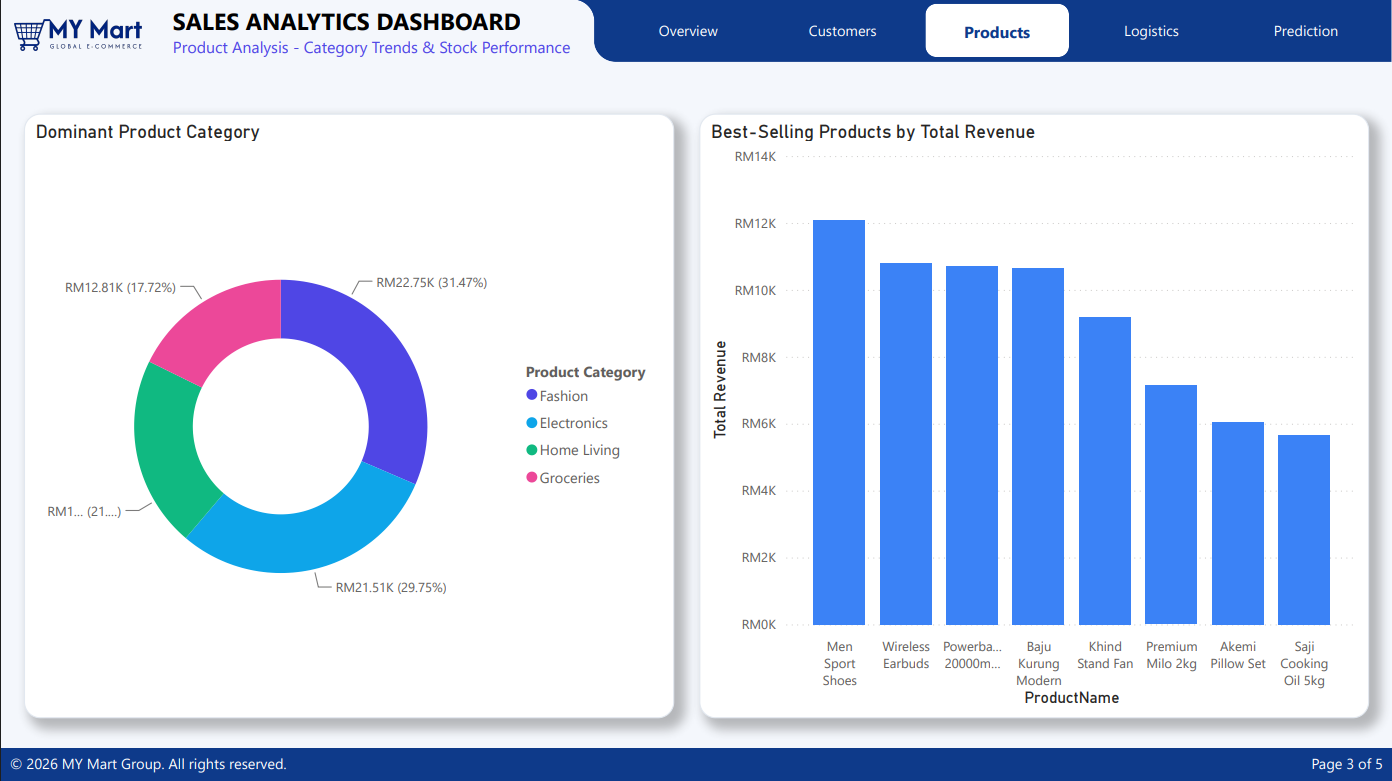

What the dashboard file says about the page in this screenshot:
{"tool":"powerbi","page":{"name":"Products","canvas":[1280,720],"ordinal":2},"visuals":[{"type":"donutChart","title":"Dominant Product Category","fields":{"Category":["MY_Mart_Sales_Data.ProductCategory"],"Y":["MY_Mart_Sales_Data.Total Revenue"]},"box":[21.7,105,598.4,556.2],"z":0},{"type":"clusteredColumnChart","title":"Best-Selling Products by Total Revenue","fields":{"Category":["MY_Mart_Sales_Data.ProductName"],"Y":["MY_Mart_Sales_Data.Total Revenue"]},"box":[643,105,616.5,556.2],"z":1000},{"type":"shape","title":"NaviTop3","box":[0,0,568.2,33.8],"z":2000},{"type":"shape","title":"NaviTop2","box":[546.3,0,733.7,57.5],"z":3000},{"type":"shape","title":"NaviTop1","box":[0,0,546.5,56.7],"z":4000},{"type":"shape","box":[0,689.4,1280.3,30.6],"z":5000},{"type":"pageNavigator","box":[567,0,704.6,57.9],"z":6000},{"type":"image","box":[13.3,0,117,65.1],"z":7000},{"type":"textbox","box":[3.7,689.4,639.5,30.6],"z":8000},{"type":"textbox","box":[635.9,689.4,640.8,30.6],"z":9000},{"type":"textbox","box":[154.4,0,392.1,65.1],"z":10000}]}

Visuals, with their boxes in screenshot pixels (x1, y1, x2, y2), scaled from the page's 1280x720 canvas onto the 1392x781 screenshot:
"Dominant Product Category" donutChart: [left=24, top=114, right=674, bottom=717]
"Best-Selling Products by Total Revenue" clusteredColumnChart: [left=699, top=114, right=1370, bottom=717]
"NaviTop3" shape: [left=0, top=0, right=618, bottom=37]
"NaviTop2" shape: [left=594, top=0, right=1391, bottom=62]
"NaviTop1" shape: [left=0, top=0, right=594, bottom=62]
shape: [left=0, top=748, right=1391, bottom=780]
pageNavigator: [left=617, top=0, right=1383, bottom=63]
image: [left=14, top=0, right=142, bottom=71]
textbox: [left=4, top=748, right=699, bottom=780]
textbox: [left=692, top=748, right=1388, bottom=780]
textbox: [left=168, top=0, right=594, bottom=71]
